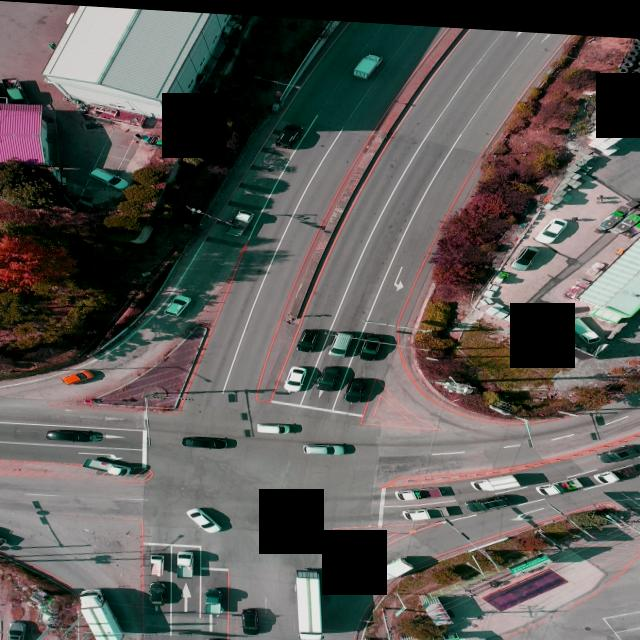car: (186, 504, 222, 530), (467, 491, 513, 510), (48, 427, 104, 442), (88, 165, 128, 185), (538, 213, 570, 238), (164, 291, 194, 315), (343, 371, 368, 399), (330, 325, 355, 353), (277, 119, 303, 145), (320, 360, 344, 388), (605, 437, 640, 456), (359, 327, 383, 354), (514, 239, 540, 263), (284, 362, 307, 388), (62, 366, 94, 384), (298, 324, 321, 349), (304, 439, 346, 451), (240, 603, 258, 629), (149, 578, 167, 601), (259, 421, 292, 432), (8, 620, 26, 640), (203, 634, 224, 640)
medium_truck: (77, 588, 126, 640), (293, 564, 323, 636)
small_truck: (470, 463, 524, 487), (372, 550, 415, 576), (536, 469, 584, 491), (595, 456, 640, 478), (570, 310, 604, 337), (402, 500, 452, 518), (85, 456, 131, 475), (397, 478, 445, 496), (354, 45, 384, 73), (178, 433, 234, 447), (228, 208, 255, 234), (3, 77, 28, 101), (176, 549, 196, 576), (204, 585, 224, 612), (150, 552, 164, 575)
